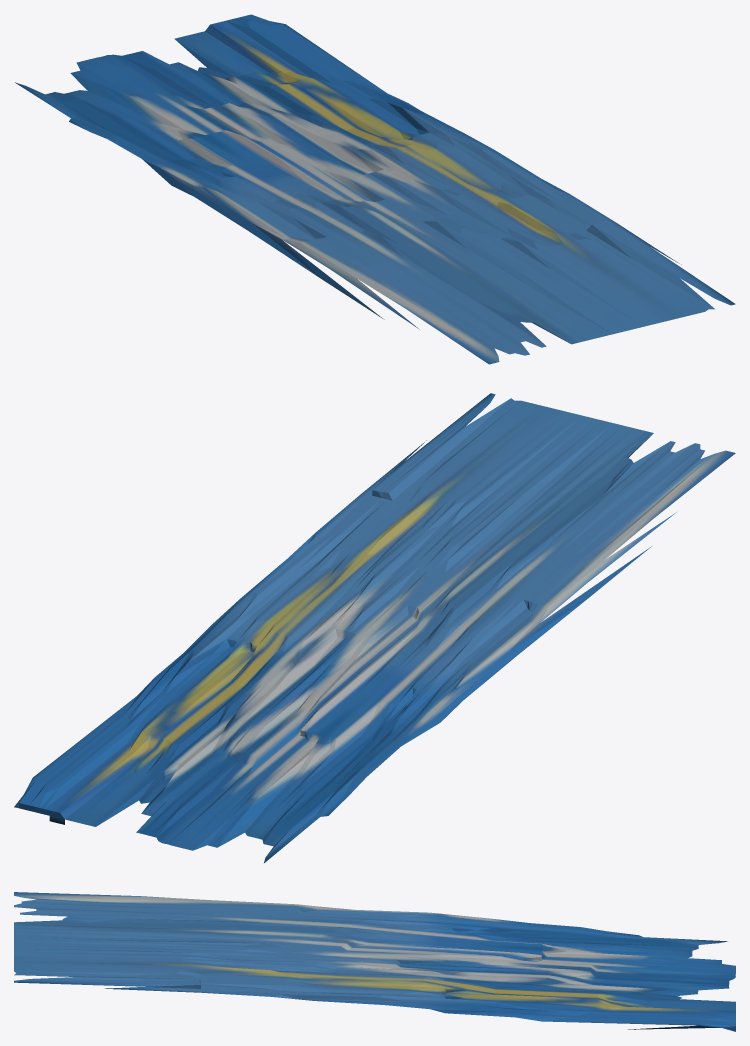
Rendered from frame_00103.glb.
The picture shows the model from 3 angles, top to bottom: view 1: azimuth 30°, elevation 25°; view 2: azimuth 150°, elevation 25°; view 3: azimuth 270°, elevation 25°; orthographic projection. The views are drawn at different scales.
Visible parts, largest first — view 1: geometry_0; view 2: geometry_0; view 3: geometry_0.
Part boxes in pixels (x1,y1,x2,y2): geometry_0: (15, 14, 735, 364); geometry_0: (14, 393, 735, 862); geometry_0: (14, 892, 735, 1031).
Size of the model in its own units: 0.0505 by 0.013 by 0.16.
1 material, 1 textured.
